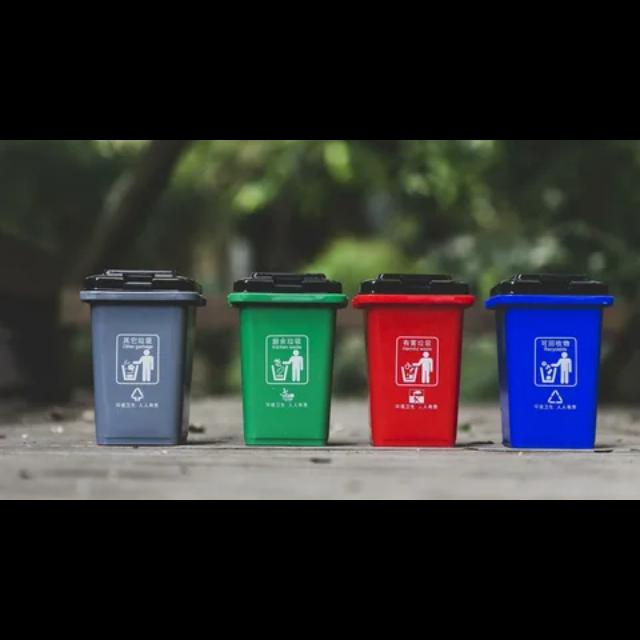Trash_Can_Closed: (484, 272, 615, 449), (78, 266, 208, 444), (225, 269, 348, 444), (352, 272, 475, 446)
